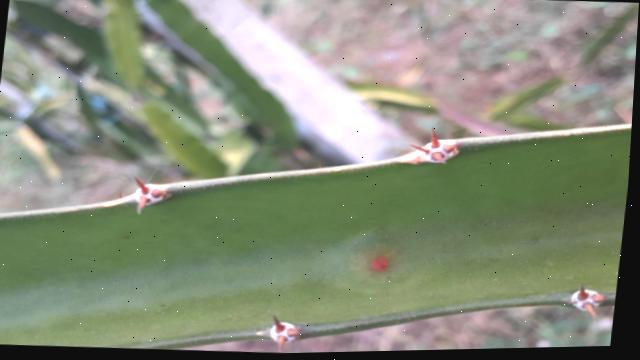stemcanker: (348, 234, 406, 289)
